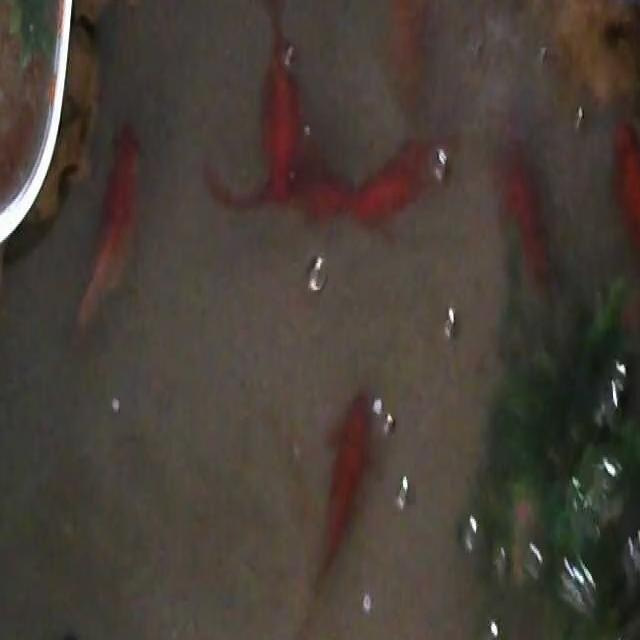fish: (304, 382, 385, 631), (280, 133, 450, 238), (76, 122, 142, 341), (495, 134, 553, 298), (259, 0, 302, 201), (609, 114, 640, 327), (388, 0, 436, 107)
